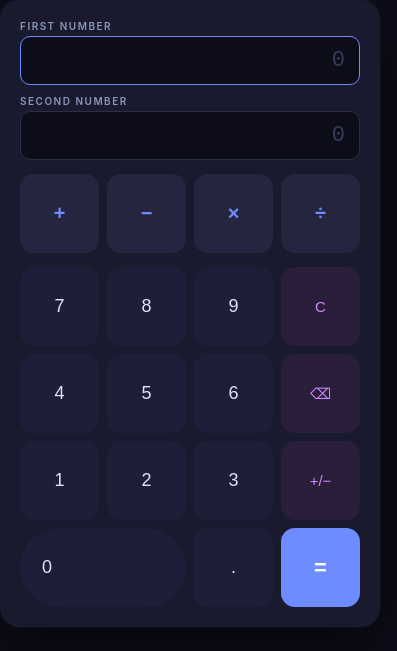
Integration — subtraction › shows Minuend / Subtrahend labels for subtraction
This screenshot has width=397, height=651.
Click the button with test id "op-subtract": (146, 214) left=107, top=174, right=186, bottom=253
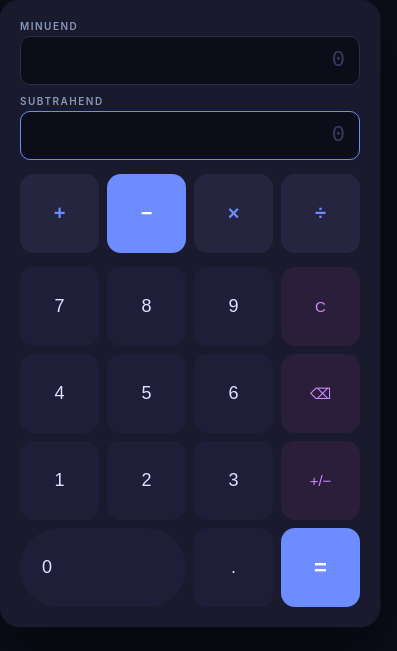
Expected: the field labelled "Minuend" is shown, left=20, top=36, right=360, bottom=85
Expected: the field labelled "Subtrahend" is shown, left=20, top=111, right=360, bottom=160
